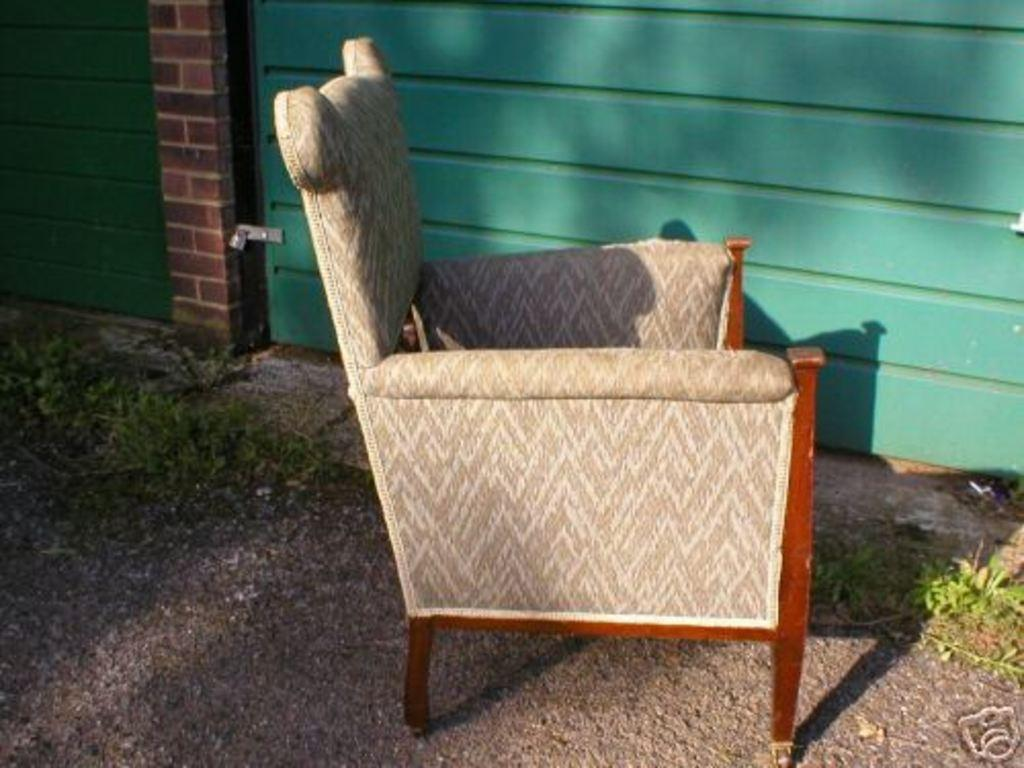Chair: (270, 94, 836, 737)
